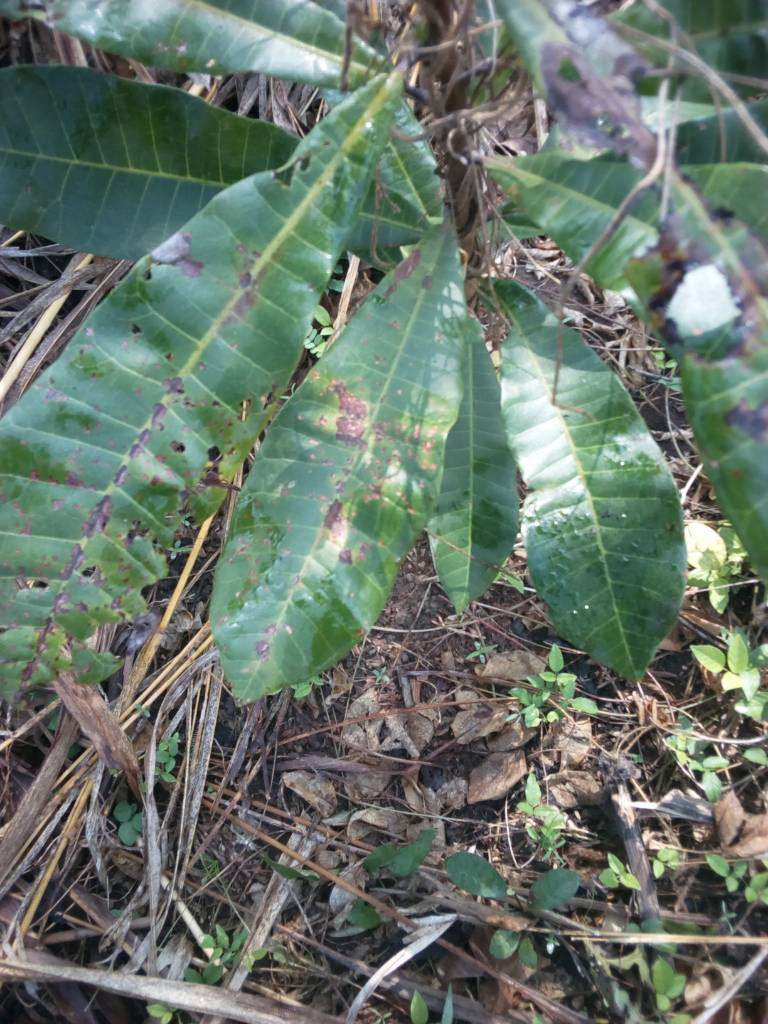Anthracnose: (1, 160, 321, 739), (213, 246, 449, 703)
